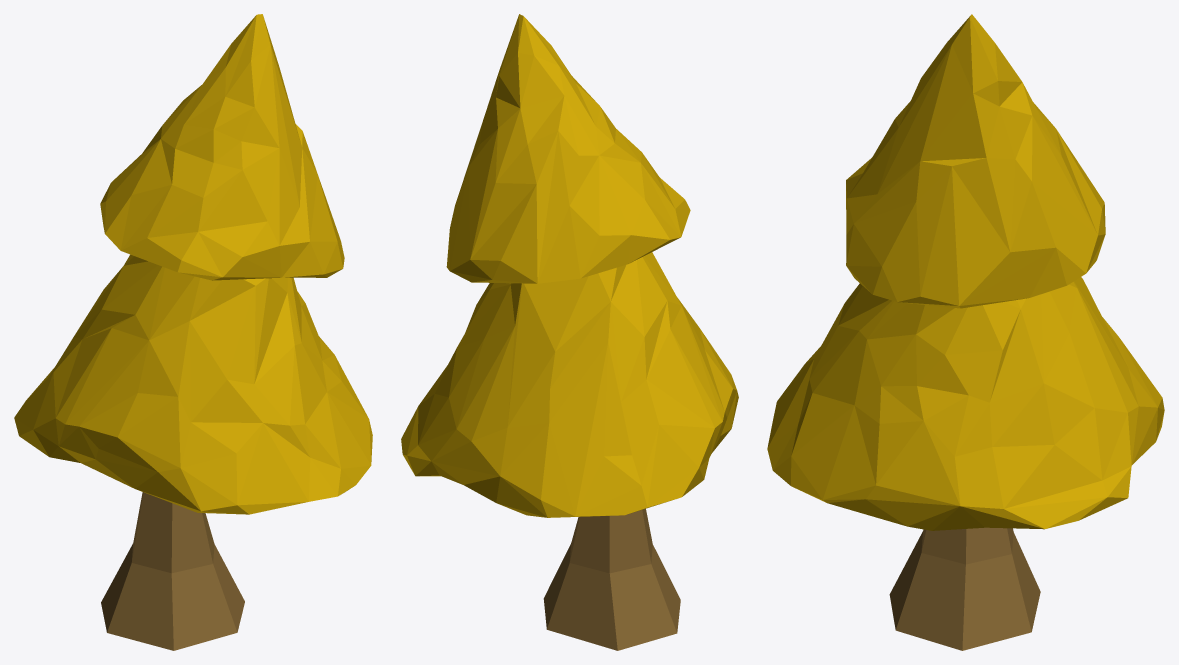
Rendered from small tree orange.fbx.
The picture shows the model from 3 angles, left to right: view 1: azimuth 30°, elevation 25°; view 2: azimuth 150°, elevation 25°; view 3: azimuth 270°, elevation 25°; orthographic projection. The views are drawn at different scales.
Visible parts, largest first — view 1: pasted__pCylinder3, pCylinder1; view 2: pasted__pCylinder3, pCylinder1; view 3: pasted__pCylinder3, pCylinder1.
Part boxes in pixels (<box>): pasted__pCylinder3: <box>14,14,372,514</box>; pCylinder1: <box>101,492,244,650</box>; pasted__pCylinder3: <box>401,14,738,517</box>; pCylinder1: <box>543,508,680,650</box>; pasted__pCylinder3: <box>767,14,1164,530</box>; pCylinder1: <box>889,527,1040,650</box>.
Size of the model in its own units: 1.88 by 3.56 by 1.99.
